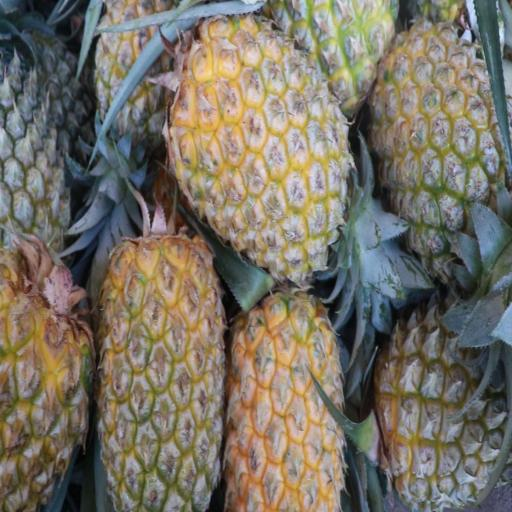------------------------------: (376, 20, 508, 274), (378, 295, 508, 504), (93, 0, 186, 149)
Pineapple - v8 v1: (175, 11, 340, 271), (98, 242, 220, 510), (0, 245, 96, 512), (229, 292, 338, 509), (280, 0, 398, 105)
